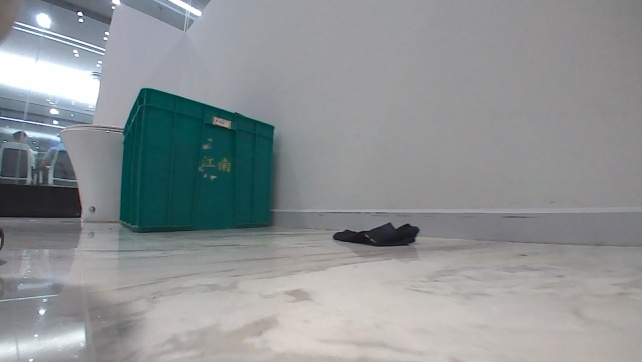socks: (328, 218, 422, 250)
toilet: (57, 120, 125, 230)
